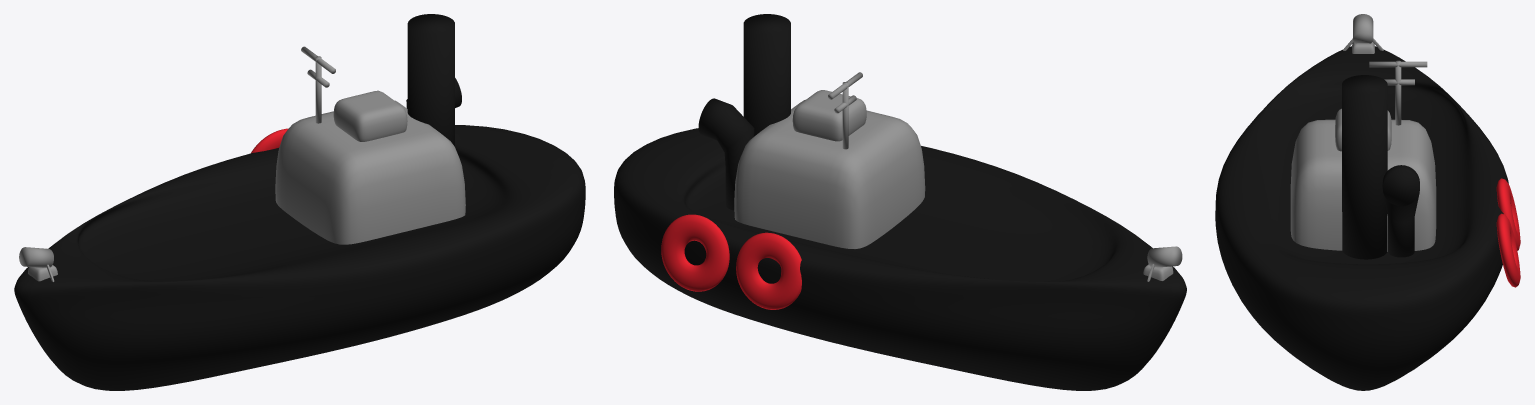
The model's file is boat_mesh.glb.
3 views of the same model, side by side, from view 1: azimuth 30°, elevation 25°; view 2: azimuth 150°, elevation 25°; view 3: azimuth 270°, elevation 25° (orthographic). The views are drawn at different scales.
Visible parts, largest first — view 1: Boat; view 2: Boat; view 3: Boat.
Part boxes in pixels (x1,y1,x2,y2): Boat: [14, 14, 585, 390]; Boat: [614, 14, 1186, 390]; Boat: [1215, 14, 1520, 390].
Bounding box in the file's own units: 5.46 × 2.78 × 2.7.
